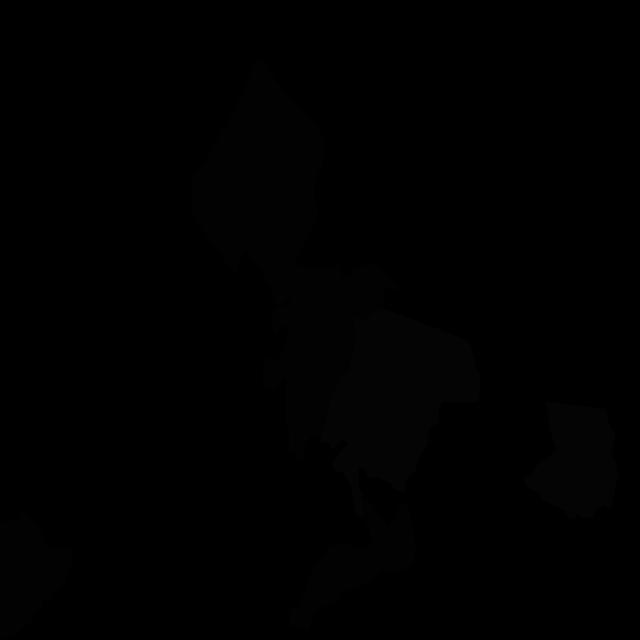cardboard: (192, 60, 326, 308), (262, 262, 400, 462), (289, 497, 416, 633), (0, 511, 73, 640)
soft_plastic: (319, 309, 481, 520), (524, 401, 618, 519)
